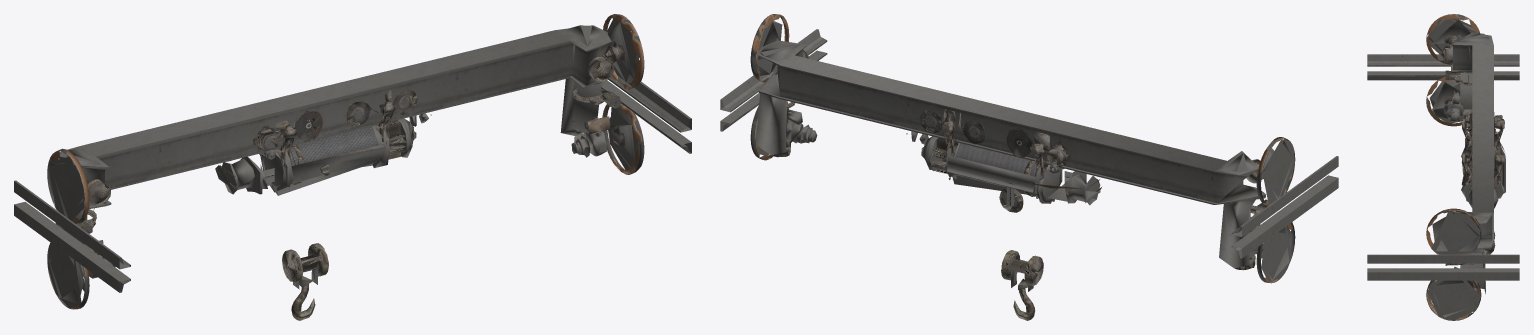
File: crane-overhead.lite.fa743a51.glb
3 views of the same model, side by side, from view 1: azimuth 30°, elevation 25°; view 2: azimuth 150°, elevation 25°; view 3: azimuth 270°, elevation 25° (orthographic). The views are drawn at different scales.
Visible parts, largest first — view 1: model; view 2: model; view 3: model.
Part boxes in pixels (<box>): model: <box>14,14,691,320</box>; model: <box>720,14,1338,320</box>; model: <box>1367,14,1519,320</box>.
Size of the model in its own units: 12.49 by 5.12 by 4.
2 materials, 2 textured.
